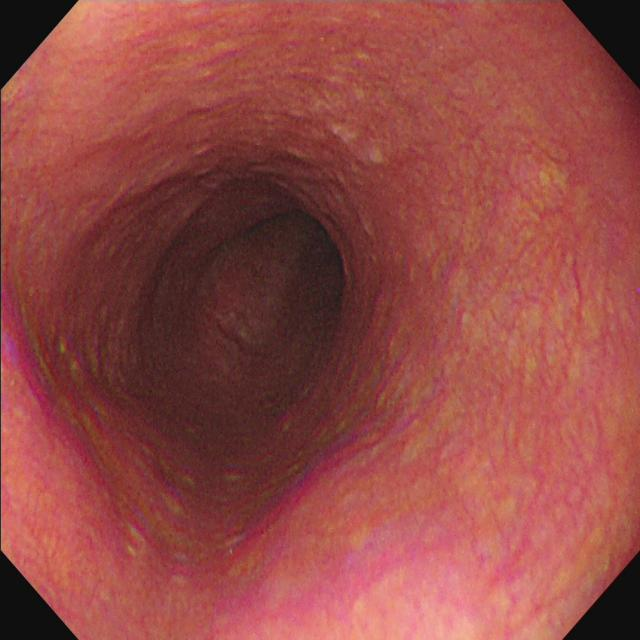E: (146, 183, 347, 440)
